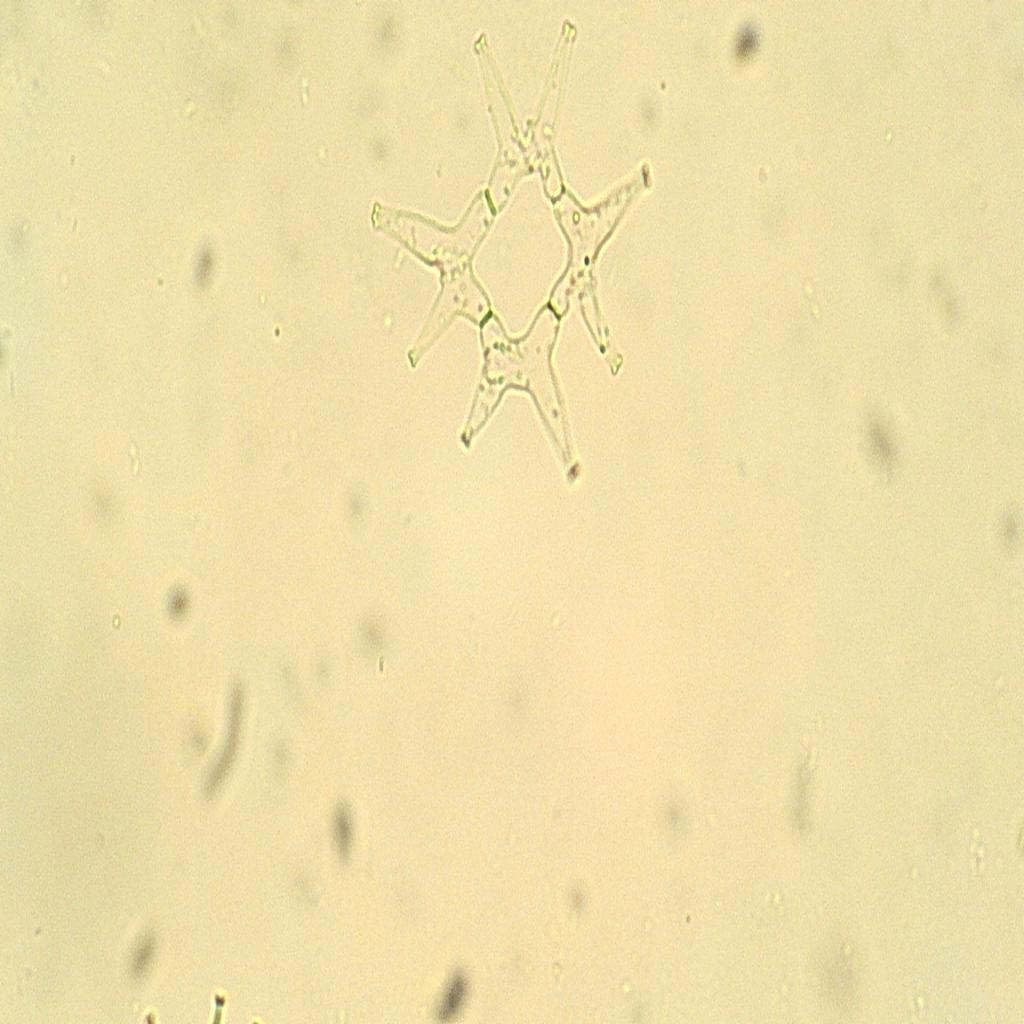Pediastrum_75TH: (356, 4, 665, 501)
